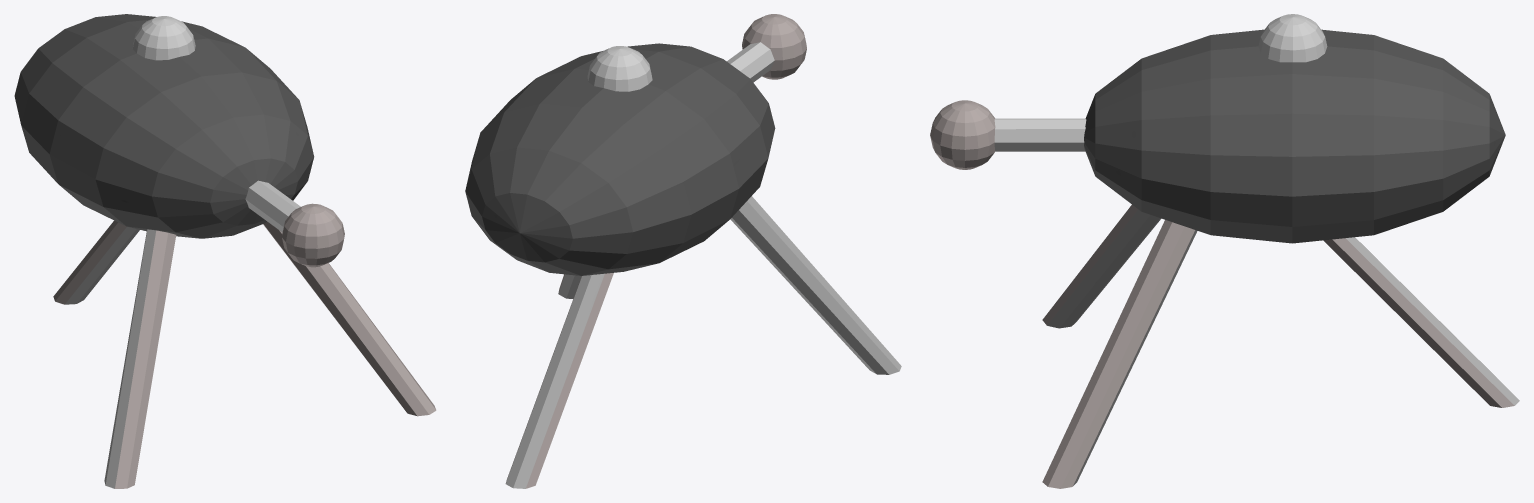
Rendered from Emitter.fbx.
The picture shows the model from 3 angles, left to right: view 1: azimuth 30°, elevation 25°; view 2: azimuth 150°, elevation 25°; view 3: azimuth 270°, elevation 25°; orthographic projection. The views are drawn at different scales.
Parts seen in each view (by area): view 1: Plane; view 2: Plane; view 3: Plane.
Part boxes in pixels (x1,y1,x2,y2): Plane: (14,14,436,488); Plane: (465,14,901,488); Plane: (930,14,1519,488).
Size of the model in its own units: 71.61 by 72.87 by 101.
